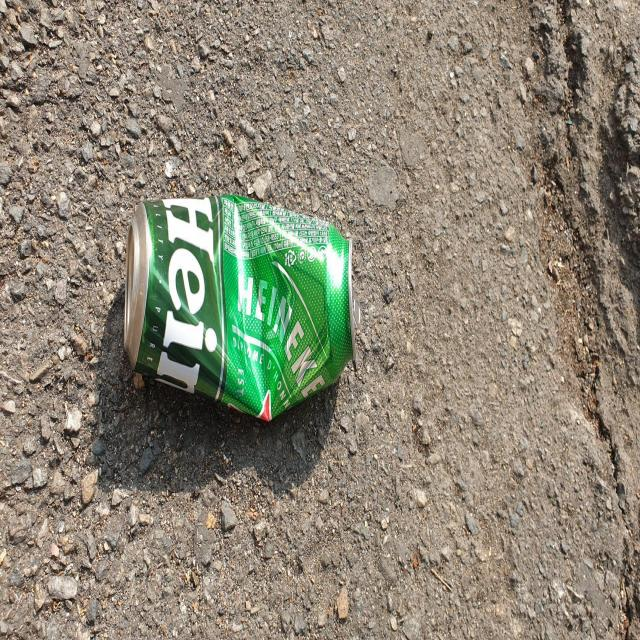can: (123, 194, 360, 421)
